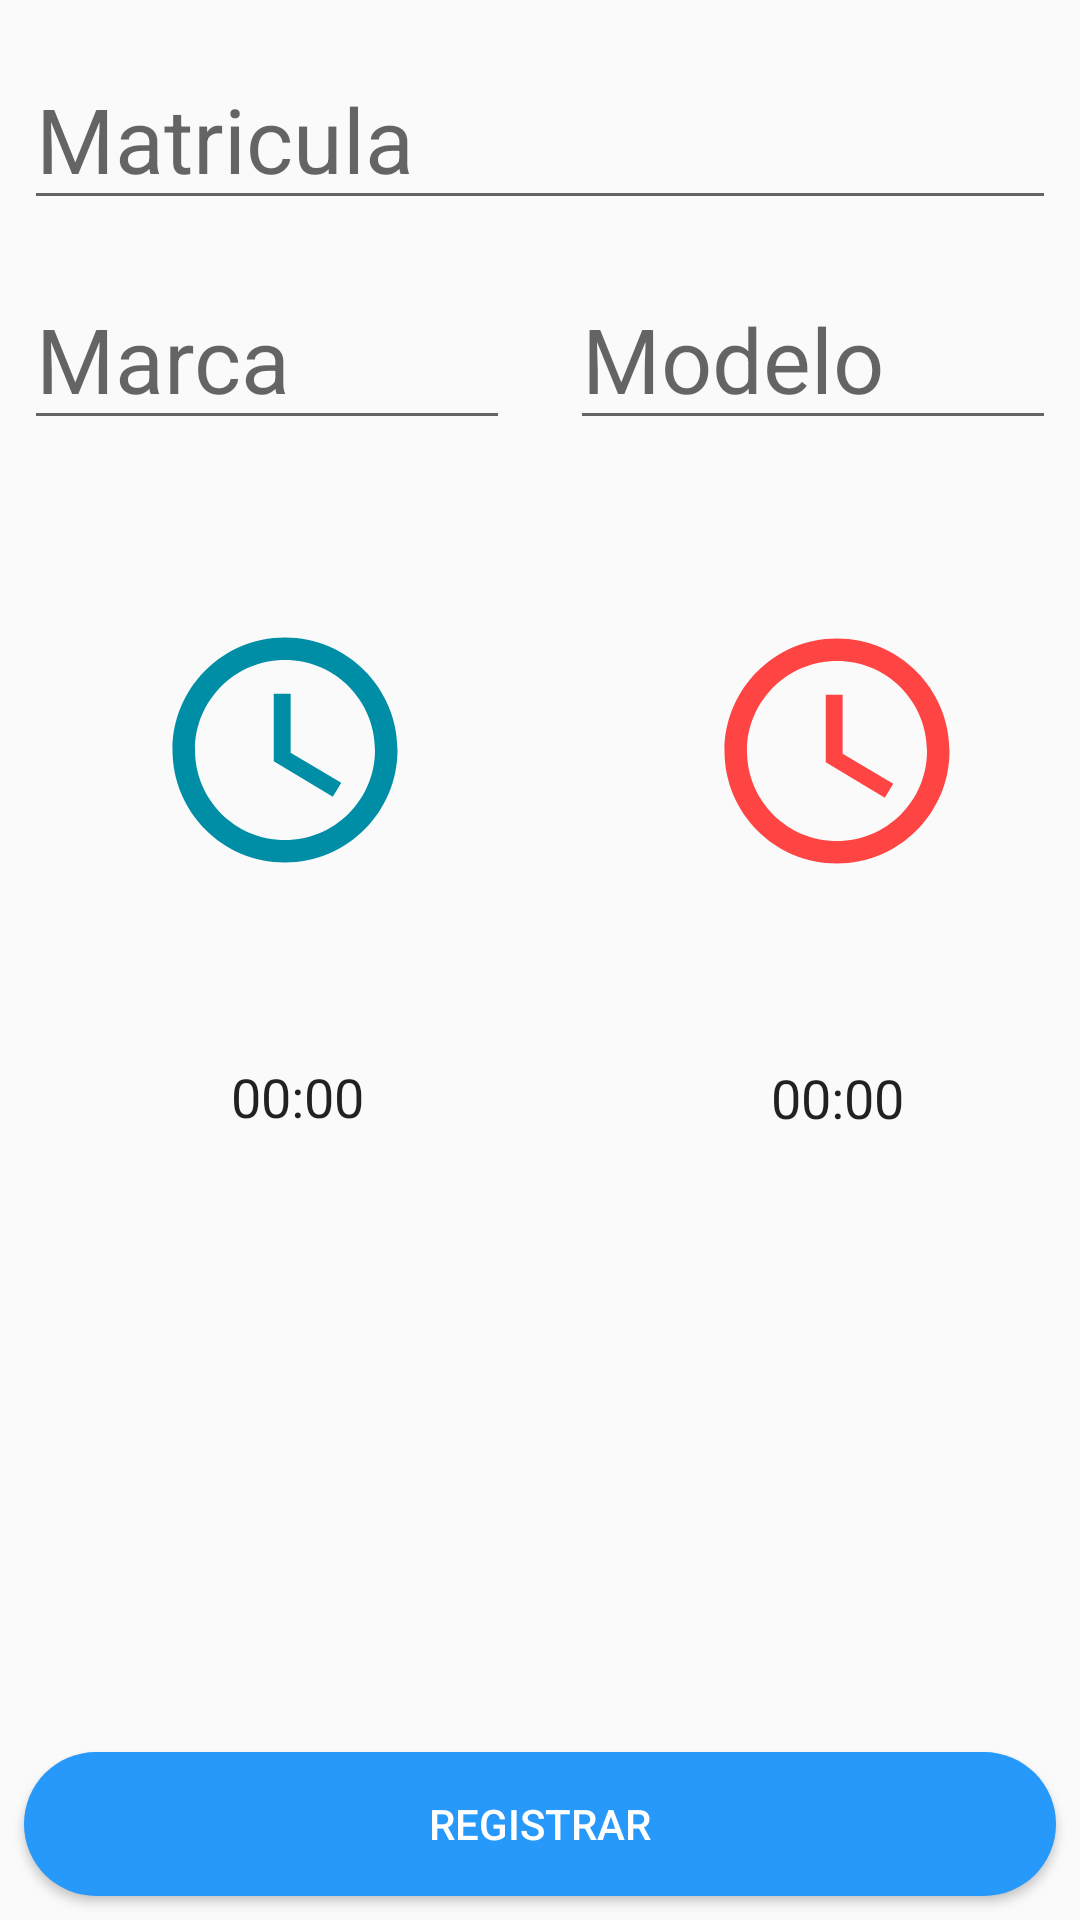

Named icons in this screenshot (1080px x 1920px) and their bounding boxes, (x1, y1, x2, y2):
access time: (172, 637, 398, 863), (724, 638, 950, 864)
